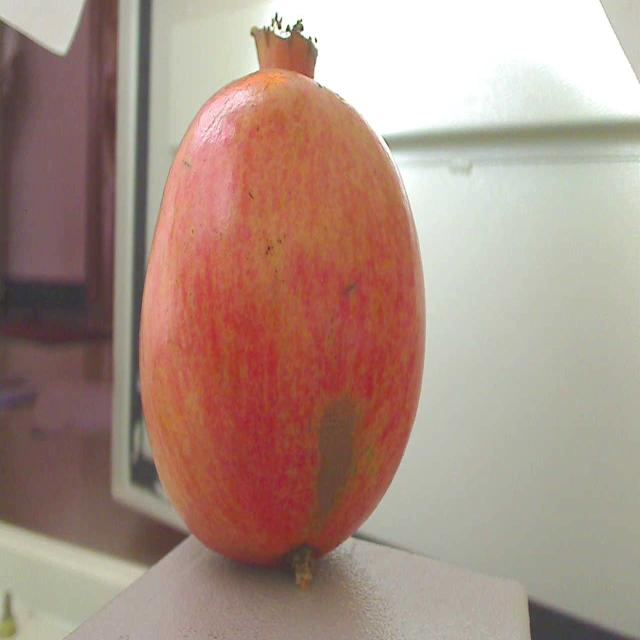pomegranate: (131, 0, 433, 578)
